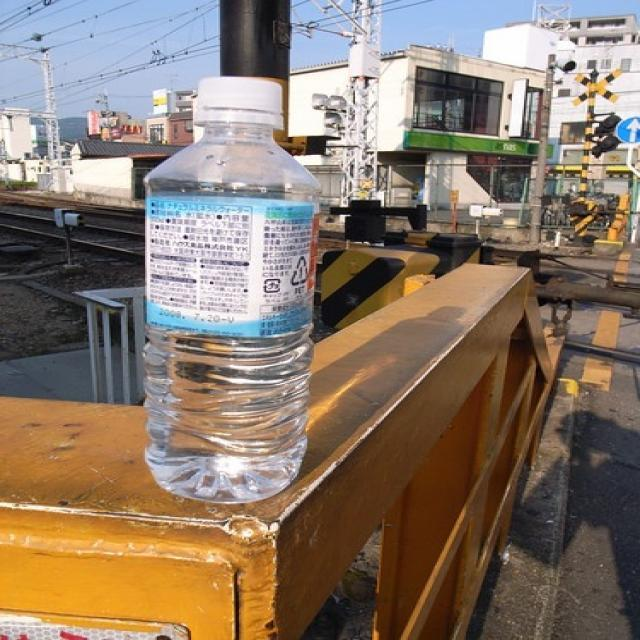plastic_bottle: (143, 77, 322, 504)
